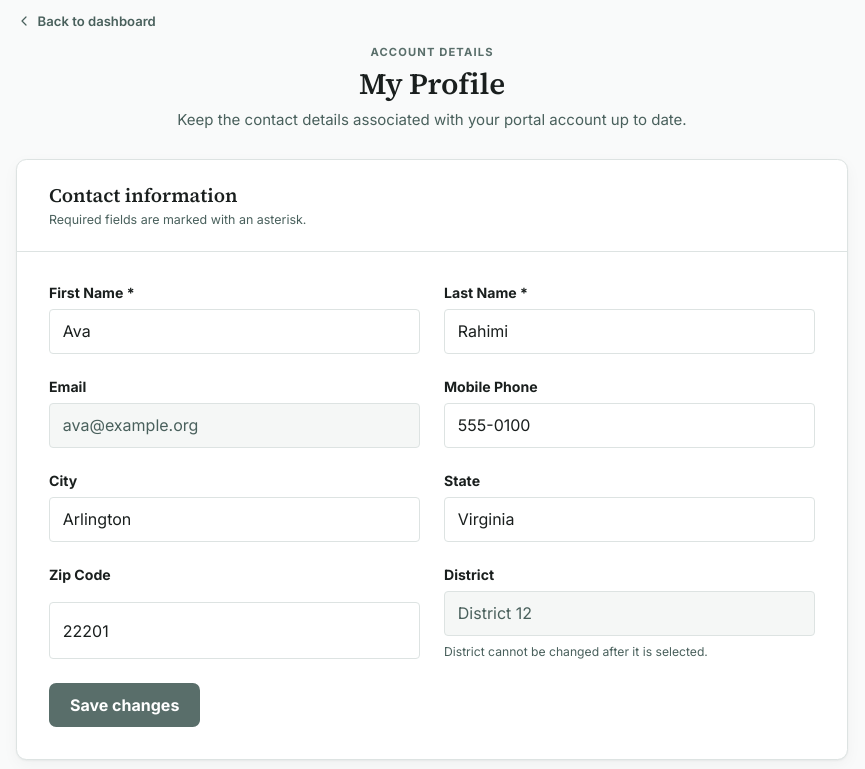
Test case: requires both name fields and focuses the first invalid field
Clear the field labelled "First Name *": (234, 331) left=49, top=309, right=420, bottom=354
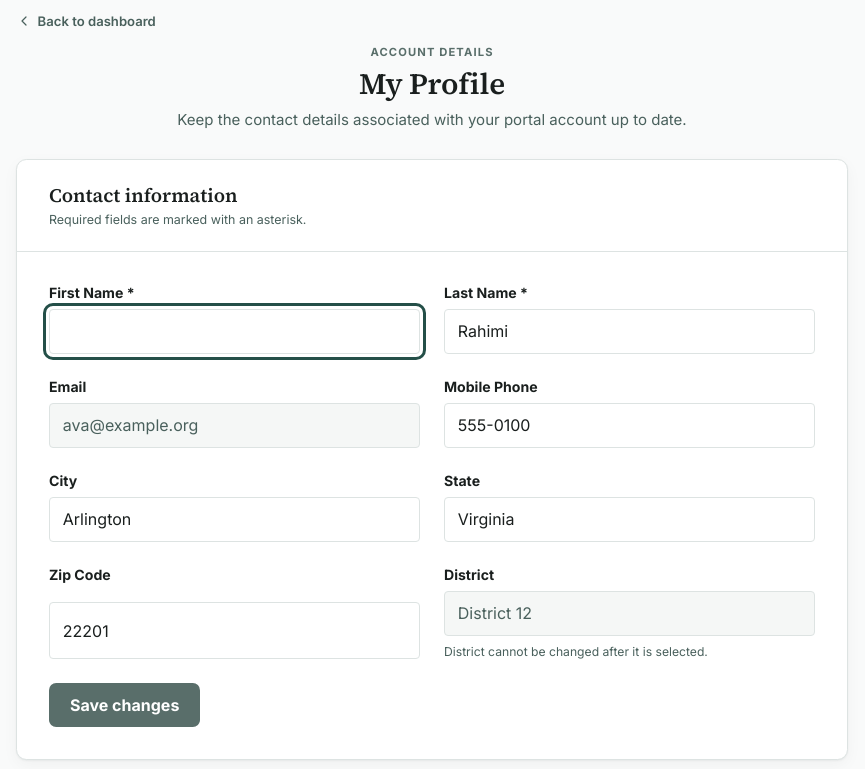
Click the button "Save changes": click(125, 705) left=49, top=683, right=200, bottom=727
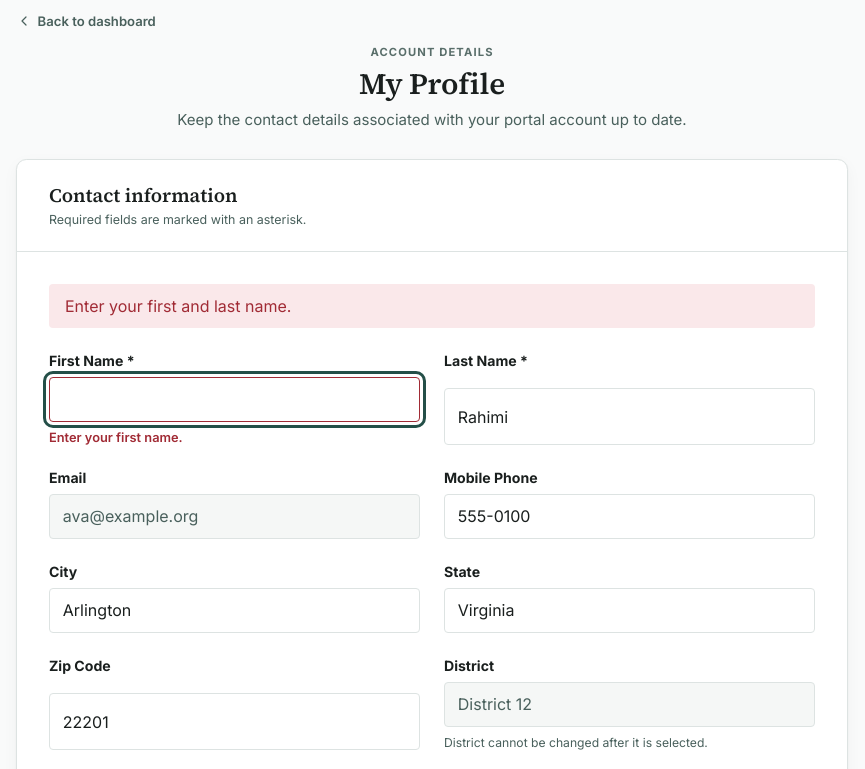
Check: the message reads "Enter your first and last name.", box left=65, top=296, right=291, bottom=316
